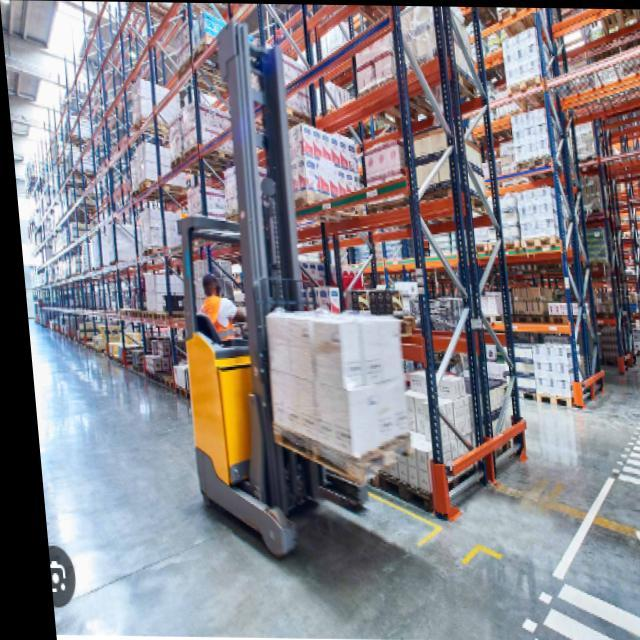vest: (202, 291, 240, 360)
